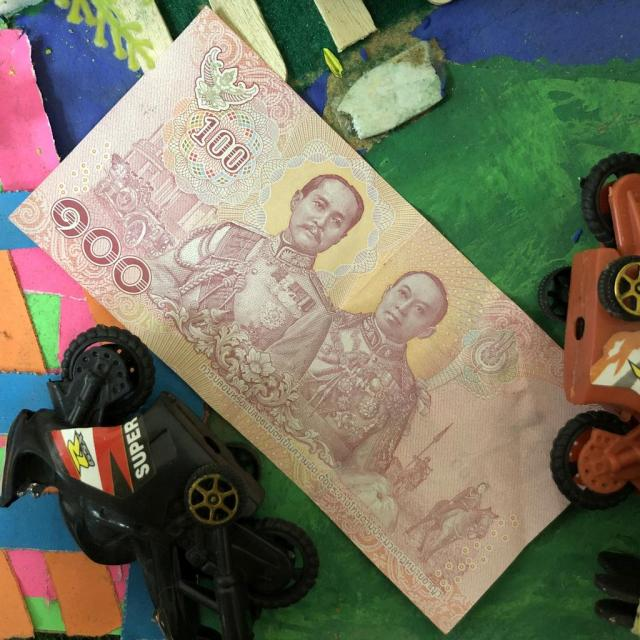THAI100: (12, 9, 574, 631)
